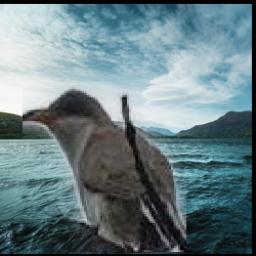Cuckoo: (23, 86, 186, 253)
